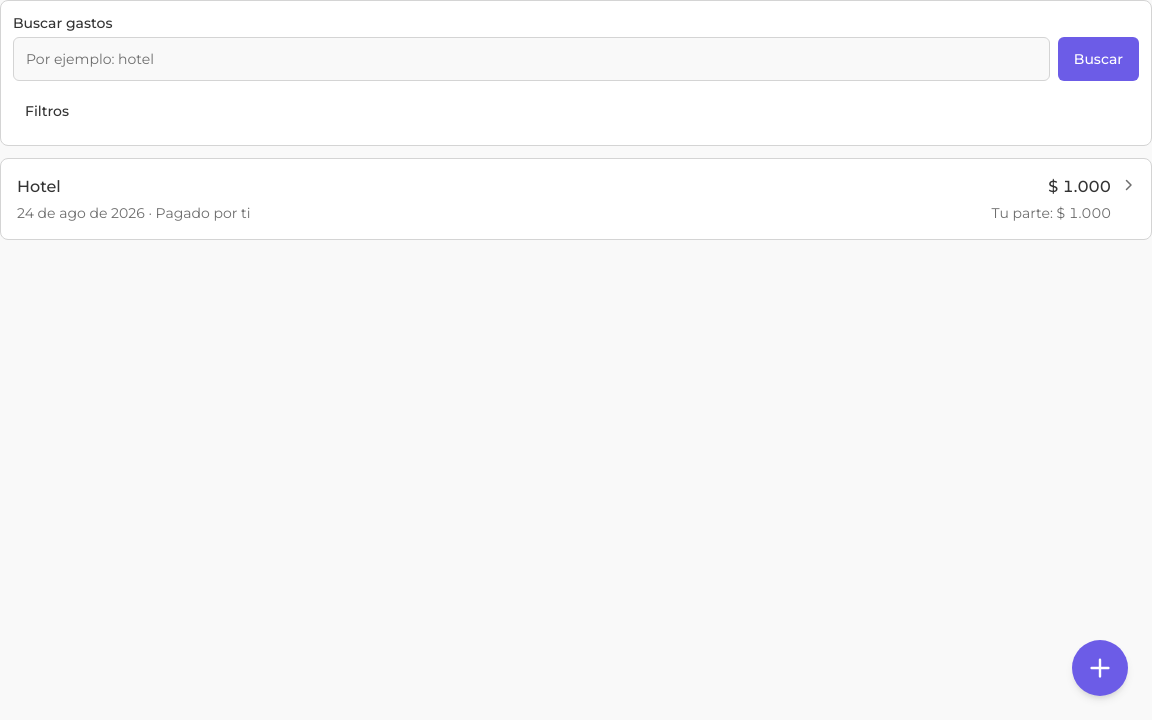
Test: ExpenseFeed polling (T117) › leaves a half-filled expense form alone when the feed refreshes underneath it
Click the button named "Agregar gasto". click: (1100, 668)
box: [1072, 640, 1128, 696]
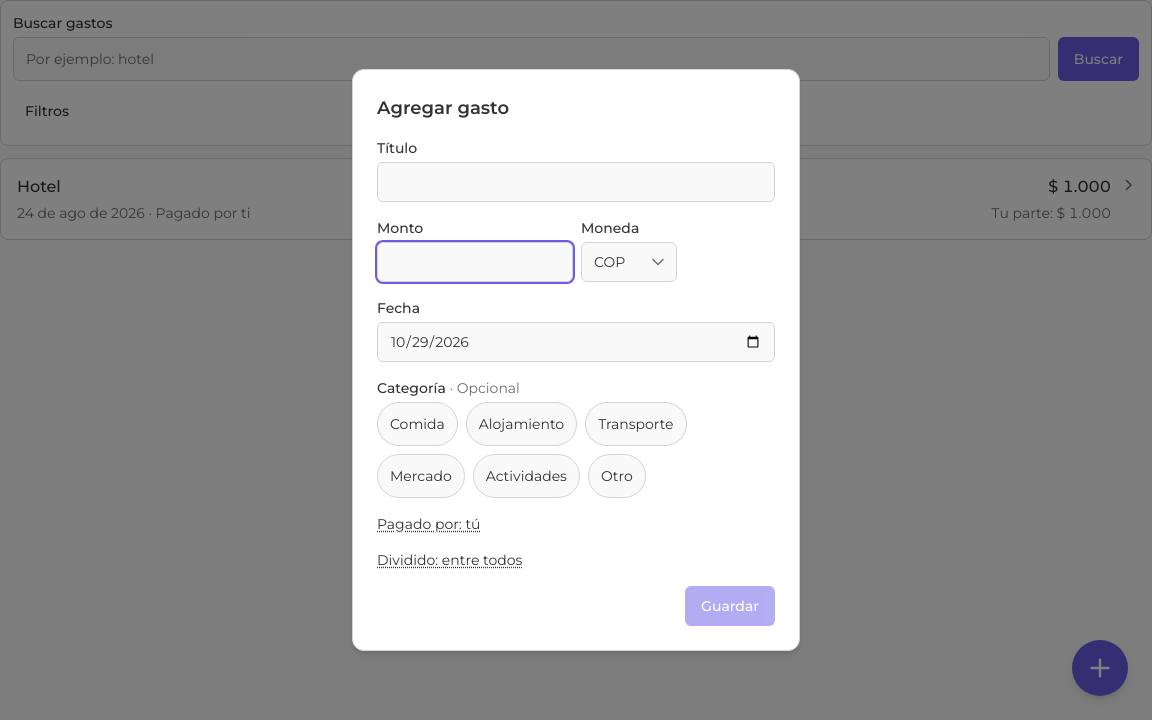
Type "Almuerzo" into the field labelled "Título". click: (576, 182)
box: [377, 162, 775, 202]
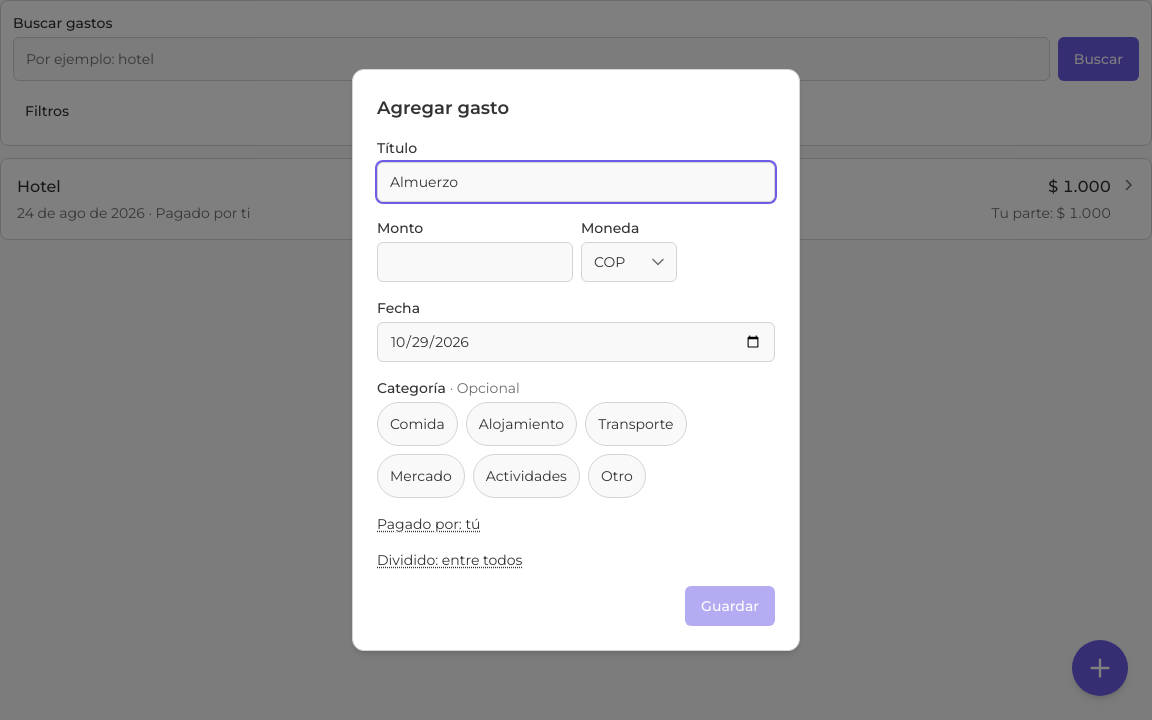
Type "45.000" into the field labelled "Monto". click: (475, 262)
box: [377, 242, 573, 282]
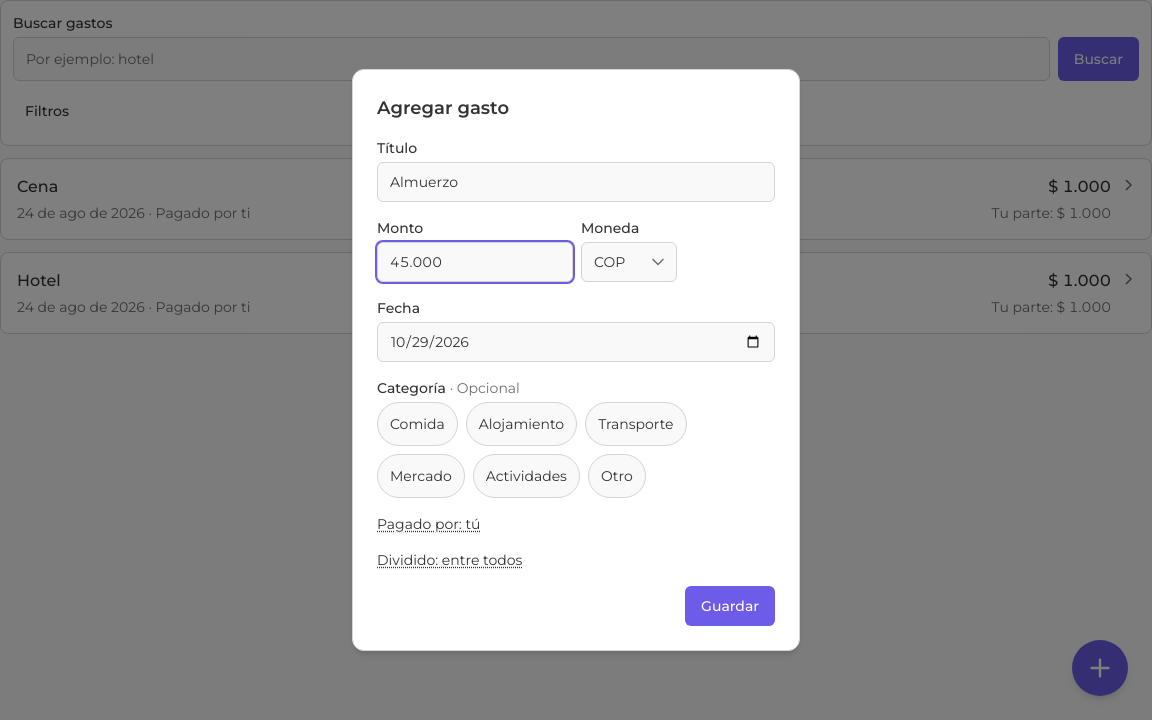
expect the text "Cena" is shown: met, box [17, 175, 58, 199]
